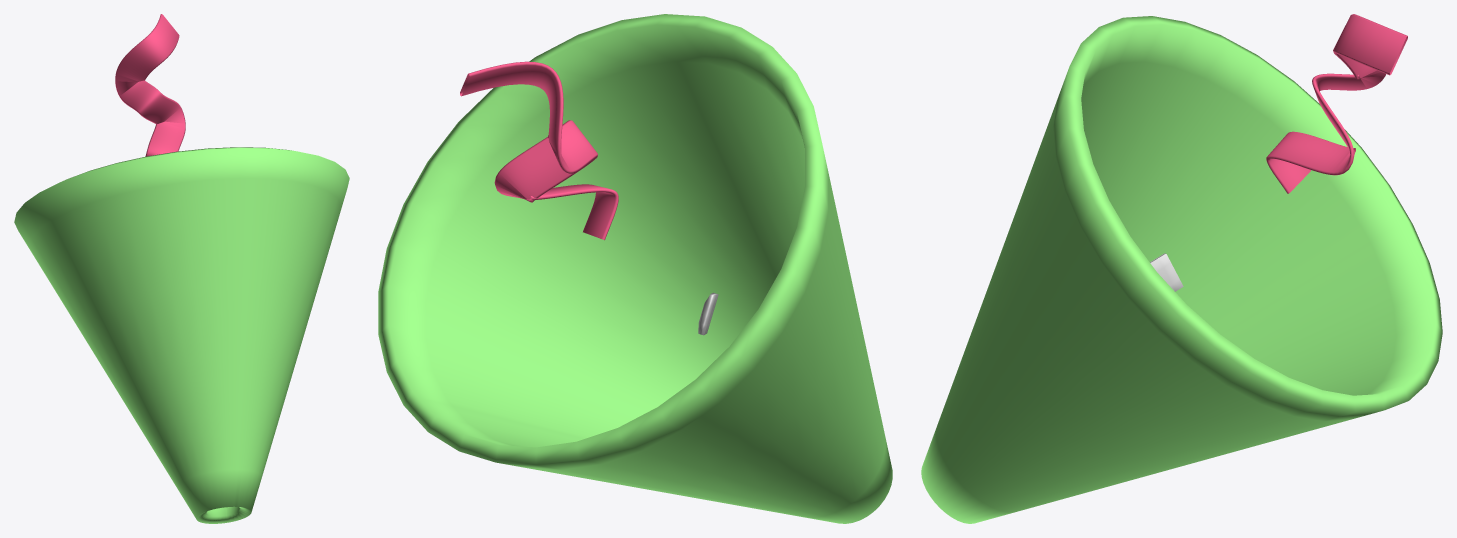
Rendered from Simple.fbx.
3 renders of one model, left to right at view 1: azimuth 30°, elevation 25°; view 2: azimuth 150°, elevation 25°; view 3: azimuth 270°, elevation 25°, orthographic. The views are drawn at different scales.
Parts seen in each view (by area): view 1: Cylinder.004, NurbsPath; view 2: Cylinder.004, NurbsPath; view 3: Cylinder.004, NurbsPath, Cube.
Boxes of the visible parts, bbox=[...] form: Cylinder.004: bbox=[14, 147, 349, 523]; NurbsPath: bbox=[115, 14, 185, 156]; Cylinder.004: bbox=[378, 14, 892, 523]; NurbsPath: bbox=[460, 61, 618, 240]; Cylinder.004: bbox=[921, 16, 1442, 523]; NurbsPath: bbox=[1266, 14, 1407, 193]; Cube: bbox=[1150, 253, 1183, 291].
Bounding box in the file's own units: 253 × 322 × 277.
